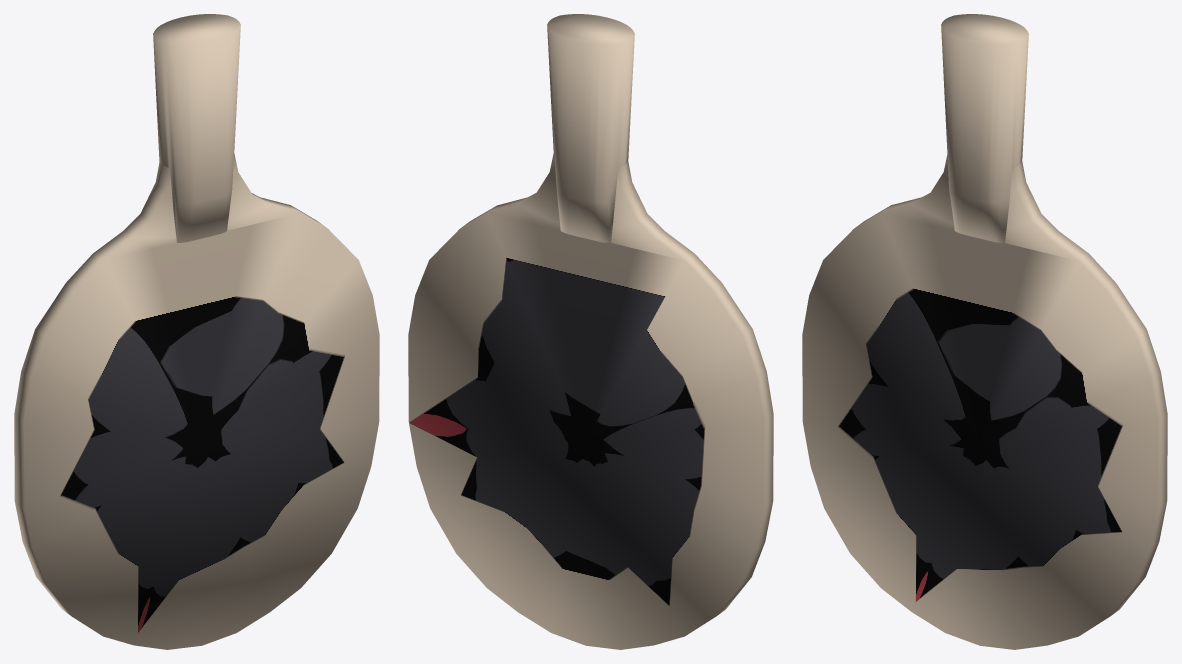
File: paddleweb.gltf
3 views of the same model, side by side, from view 1: azimuth 30°, elevation 25°; view 2: azimuth 150°, elevation 25°; view 3: azimuth 330°, elevation 25° (orthographic).
Parts seen in each view (by area): view 1: Paddle; view 2: Paddle; view 3: Paddle.
Boxes of the visible parts, box(x1,y1,x2,y2) form: Paddle: box(14, 14, 379, 649); Paddle: box(408, 14, 773, 649); Paddle: box(802, 14, 1167, 649).
Bounding box in the file's own units: 3.04 × 5.01 × 0.48.
Materials: 1 (1 with a texture image).
